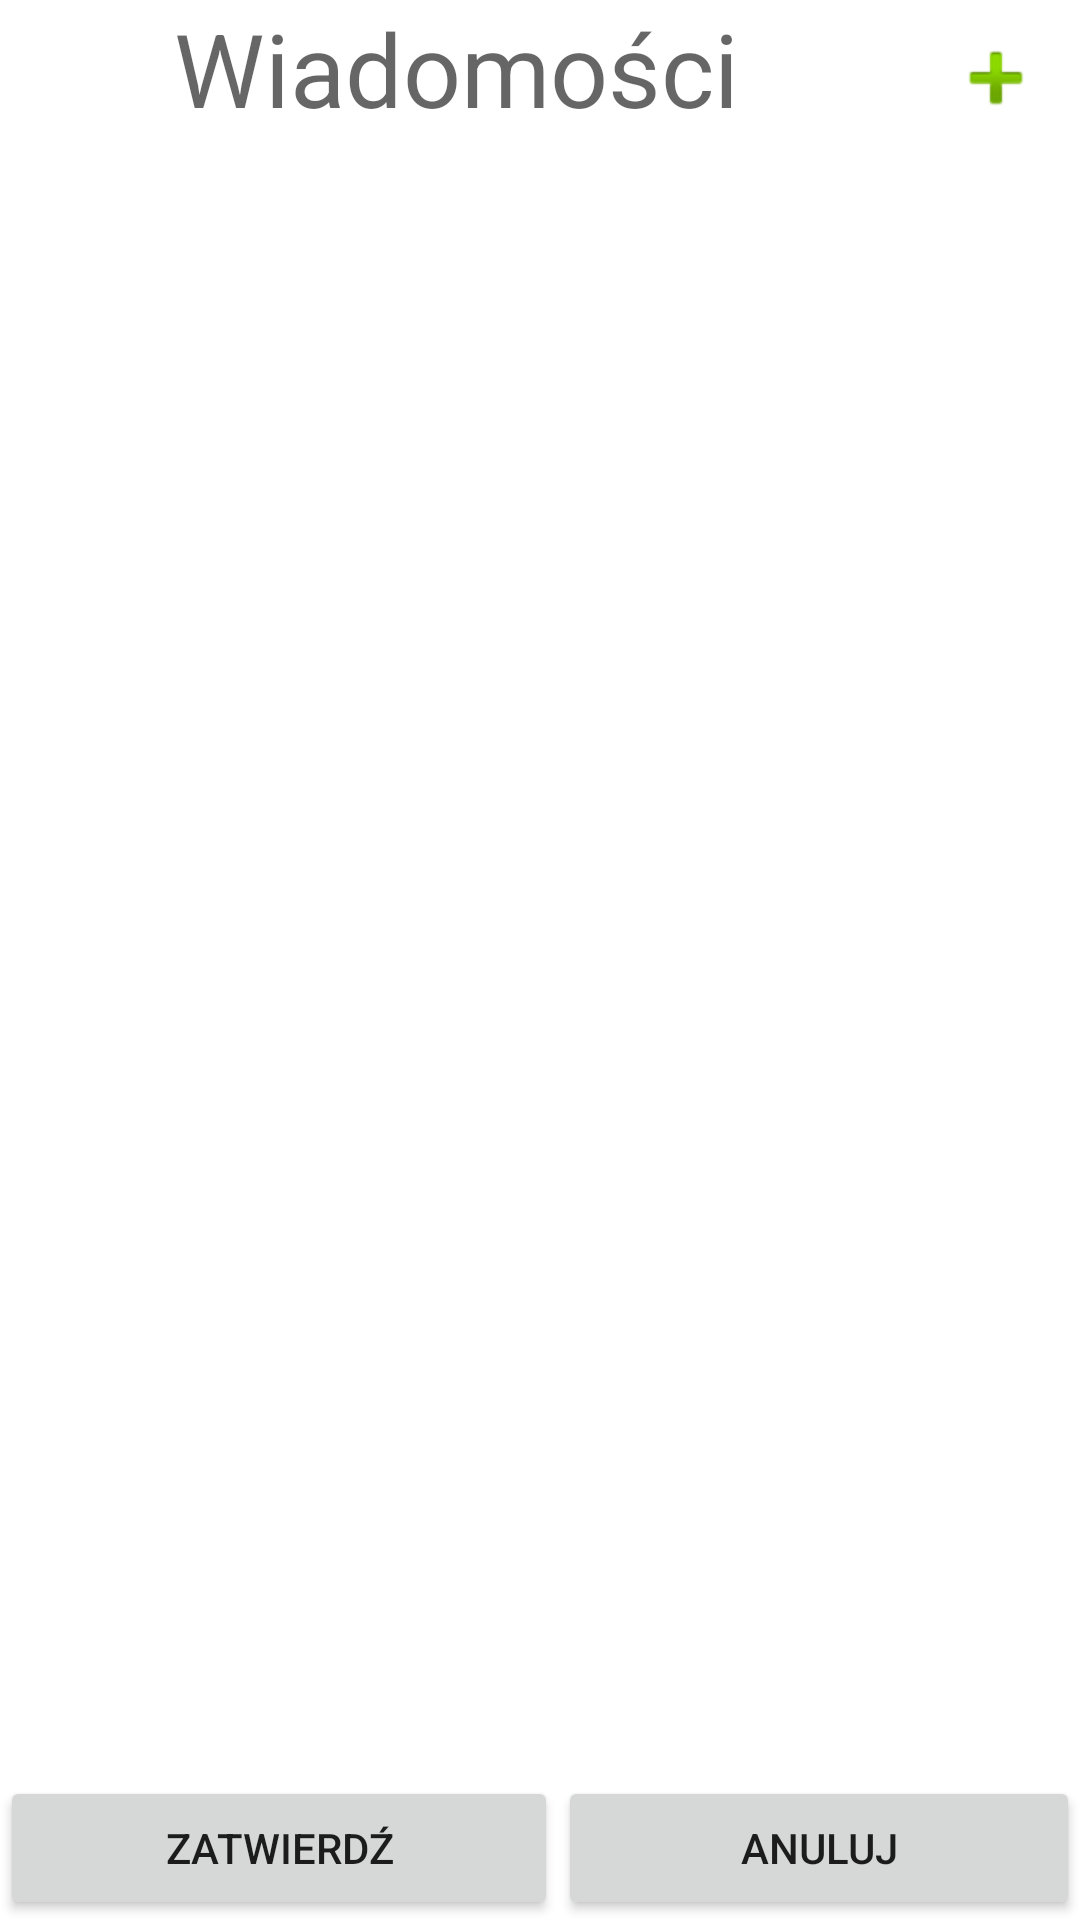

Icons on this 1080 × 1920 Android screen, each with the point to tap as point (x, y):
add: point (996, 78)
